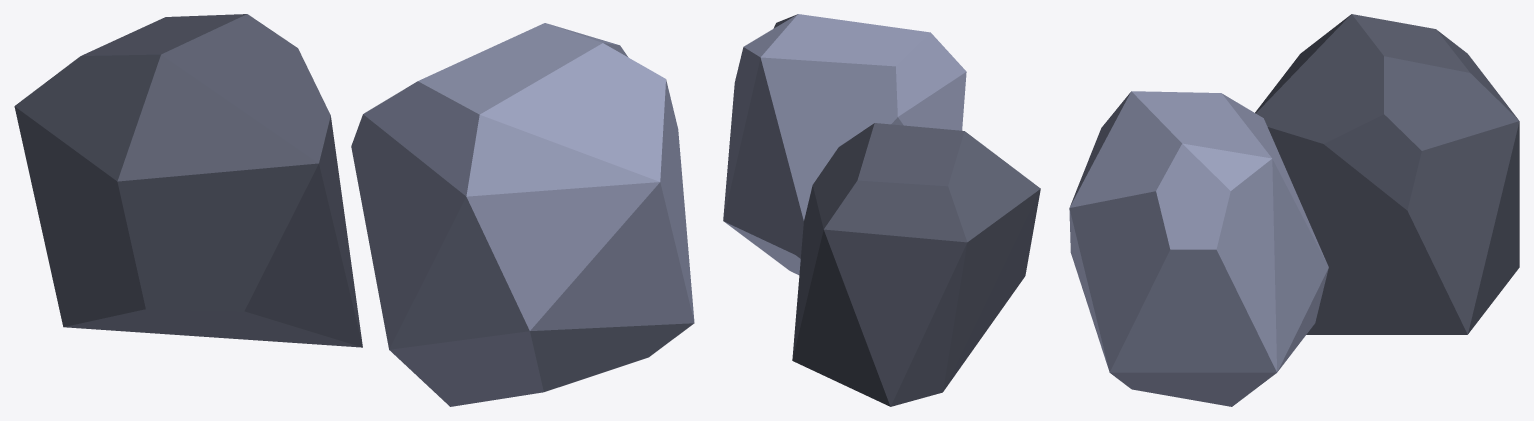
File: rocks.fbx
The picture shows the model from 3 angles, left to right: view 1: azimuth 30°, elevation 25°; view 2: azimuth 150°, elevation 25°; view 3: azimuth 270°, elevation 25°; orthographic projection. The views are drawn at different scales.
Visible parts, largest first — view 1: Icosphere, Icosphere.001; view 2: Icosphere.001, Icosphere; view 3: Icosphere.001, Icosphere.
Part boxes in pixels (left/top/right/bottom): Icosphere: left=351, top=23, right=694, bottom=406; Icosphere.001: left=14, top=14, right=362, bottom=347; Icosphere.001: left=792, top=123, right=1040, bottom=406; Icosphere: left=723, top=14, right=966, bottom=274; Icosphere.001: left=1255, top=14, right=1519, bottom=334; Icosphere: left=1069, top=91, right=1328, bottom=406.
Bounding box in the file's own units: 283 × 188 × 283.
